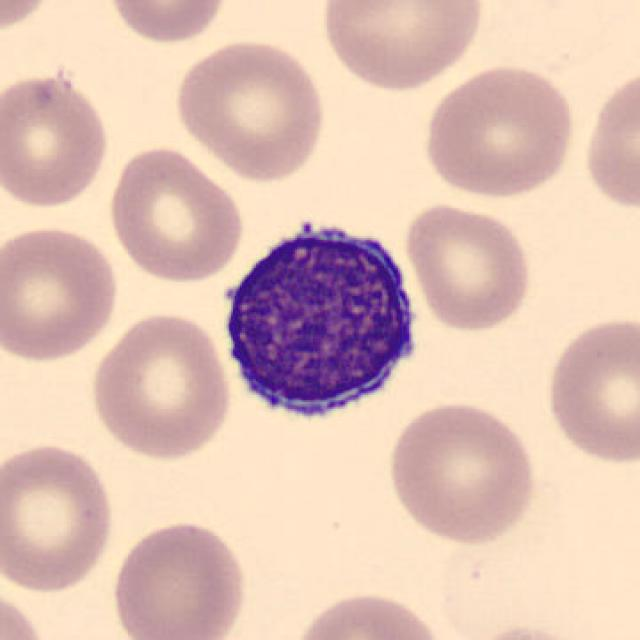Lymphocyte: (212, 204, 428, 433)
RBC: (380, 396, 540, 546), (86, 306, 237, 464), (171, 35, 329, 184), (418, 60, 580, 201), (105, 142, 247, 286), (0, 437, 117, 595), (106, 516, 250, 640), (402, 199, 535, 333), (0, 222, 123, 365), (315, 0, 489, 93), (0, 68, 112, 212), (540, 312, 638, 467), (578, 62, 640, 217), (286, 587, 452, 640), (101, 0, 233, 46), (451, 620, 606, 640), (0, 582, 52, 640), (0, 0, 59, 37)
